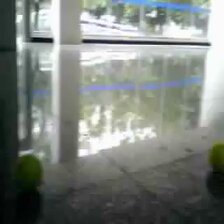tennis: (17, 153, 42, 186), (209, 142, 224, 169)
